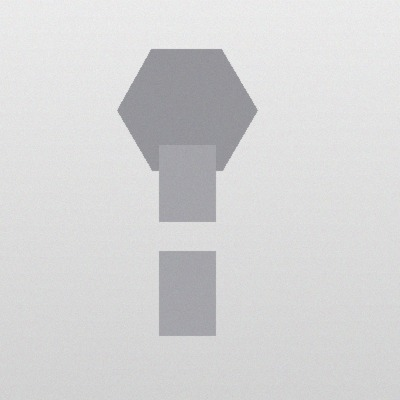broken: (147, 216, 227, 256)
